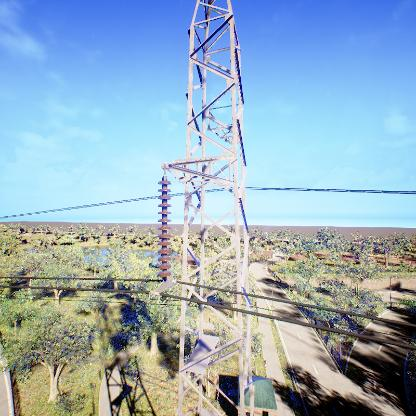insulator: (155, 179, 172, 282)
